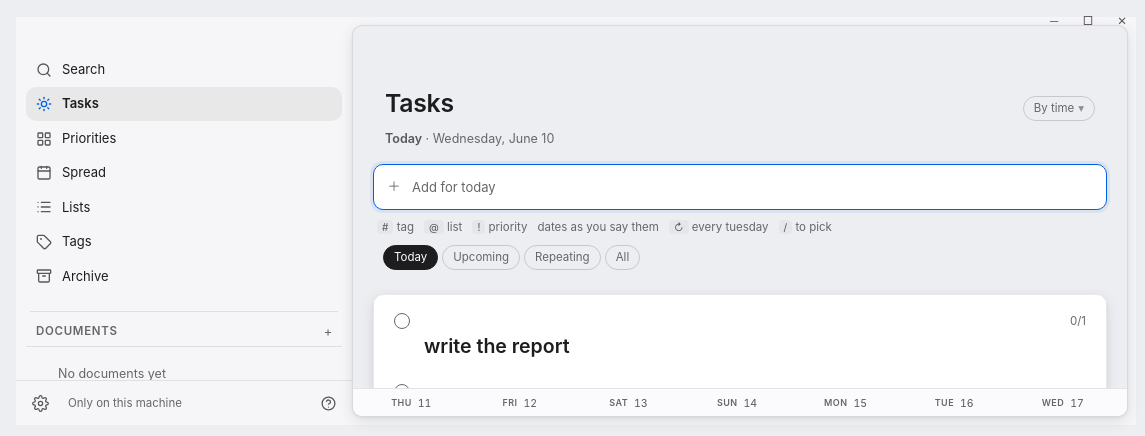
it: an open task › does not leave the panel showing a task settled after it was reopened
Expected: the heading "write the report" is shown, 424,334 -> 570,358
Click the button "Archive": (85, 276) 26,260 -> 342,293
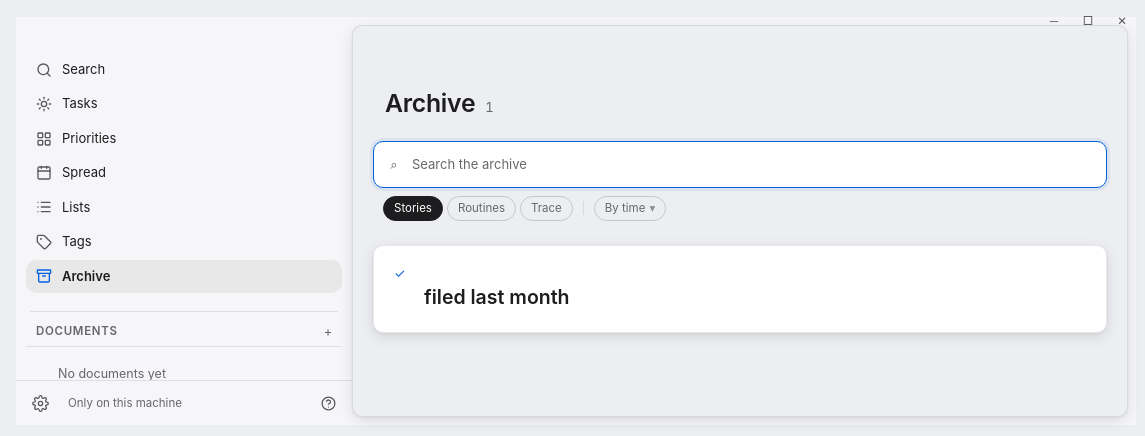
Click the heading "filed last month": (497, 297) 424,285 -> 570,309
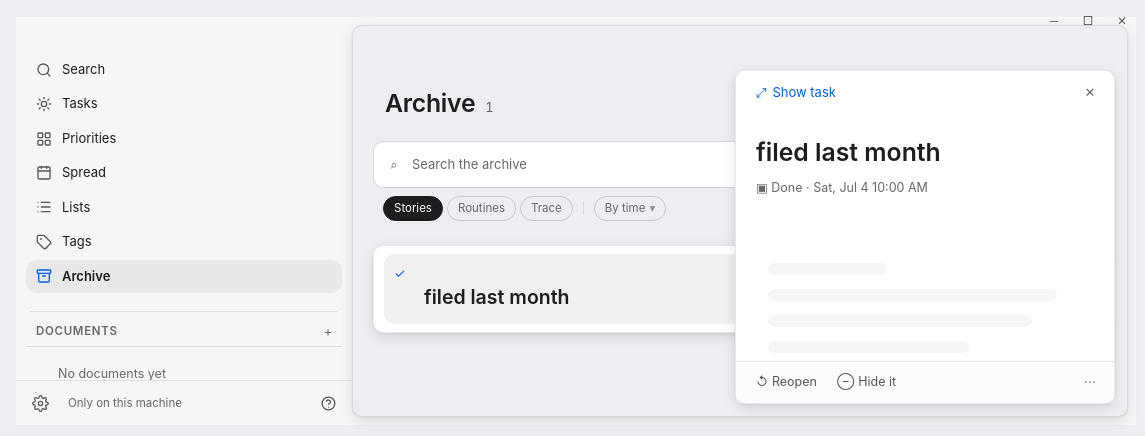
Click the button "↺ Reopen": (786, 383) 748,368 -> 825,397
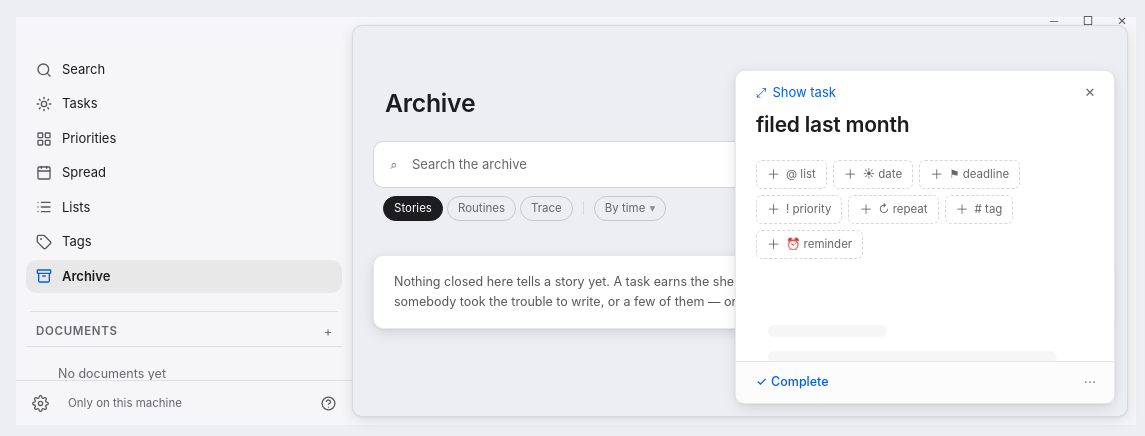
Now the button "✓ Complete" is shown, box 748,368 -> 837,397
Now the button "Reopen" is gone
